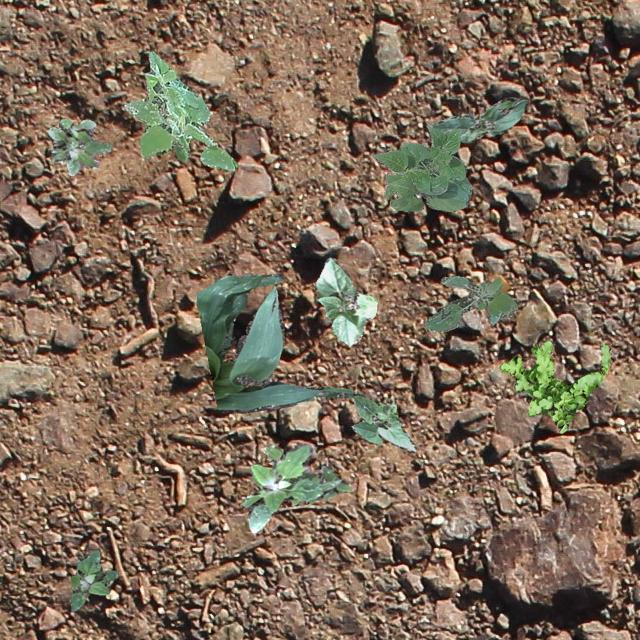crop: (195, 273, 352, 412), (372, 124, 472, 210), (314, 256, 376, 346), (430, 96, 528, 140), (351, 394, 416, 450)
weed: (122, 51, 235, 170), (498, 341, 610, 432), (242, 442, 350, 532), (424, 276, 516, 332), (46, 118, 110, 174), (70, 548, 116, 610)
